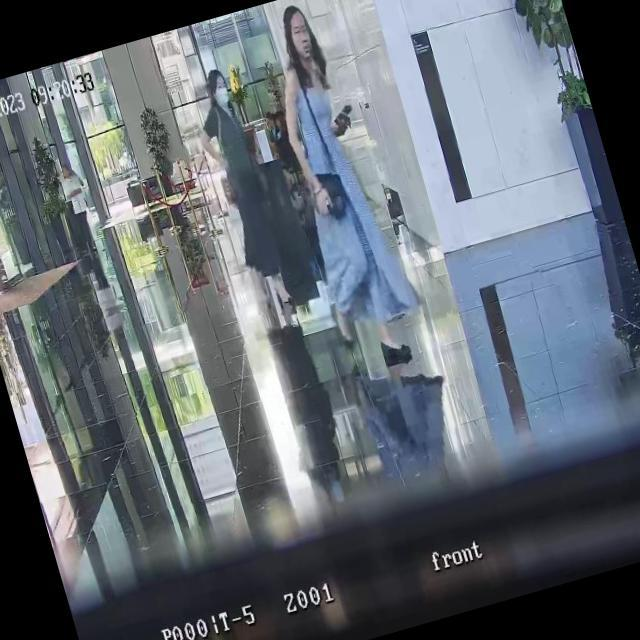person: (248, 0, 432, 383), (181, 65, 290, 292), (57, 158, 104, 258), (268, 110, 296, 163), (262, 107, 282, 142)
